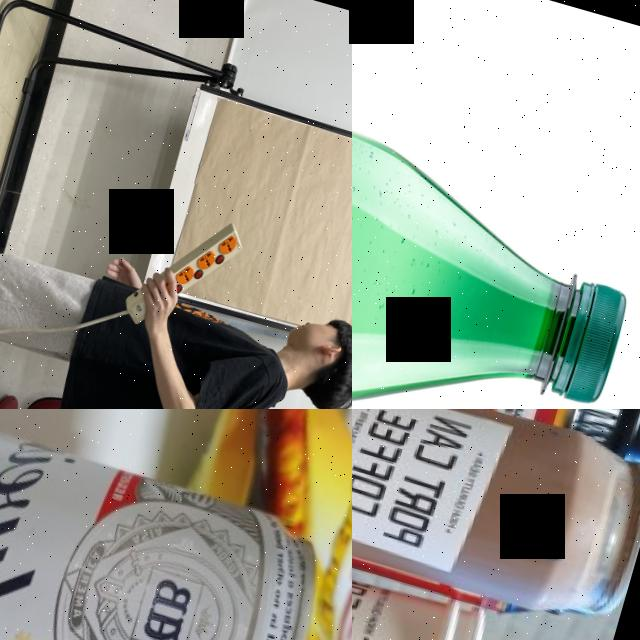bottle: (352, 64, 640, 409)
can: (0, 409, 339, 640), (352, 409, 640, 638), (352, 409, 640, 481)
cup: (352, 490, 497, 640)
